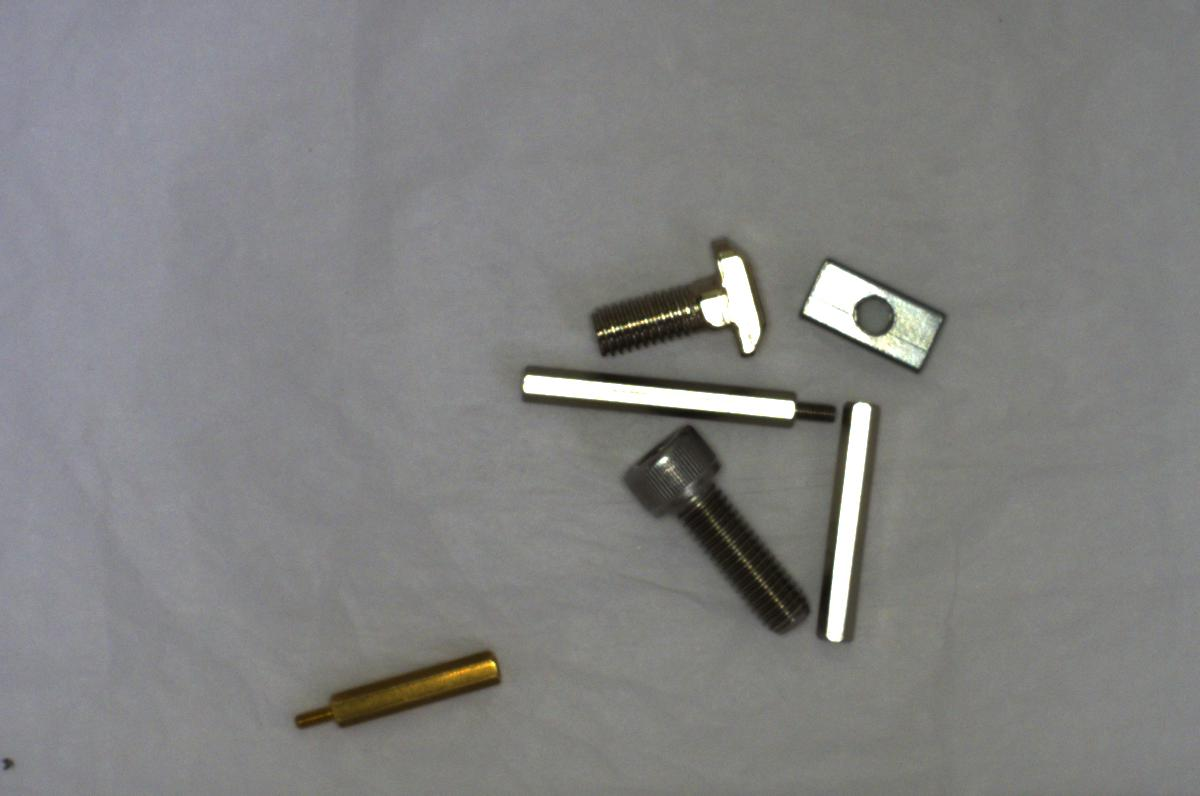Double hexagonal column: (817, 393, 884, 645)
Hexagon pillar: (284, 643, 501, 730)
Hexagon screw: (613, 423, 801, 630)
Hexagonal steel column: (510, 356, 837, 423)
Rectangular nut: (786, 253, 951, 382)
T-shaped screw: (586, 239, 768, 367)
